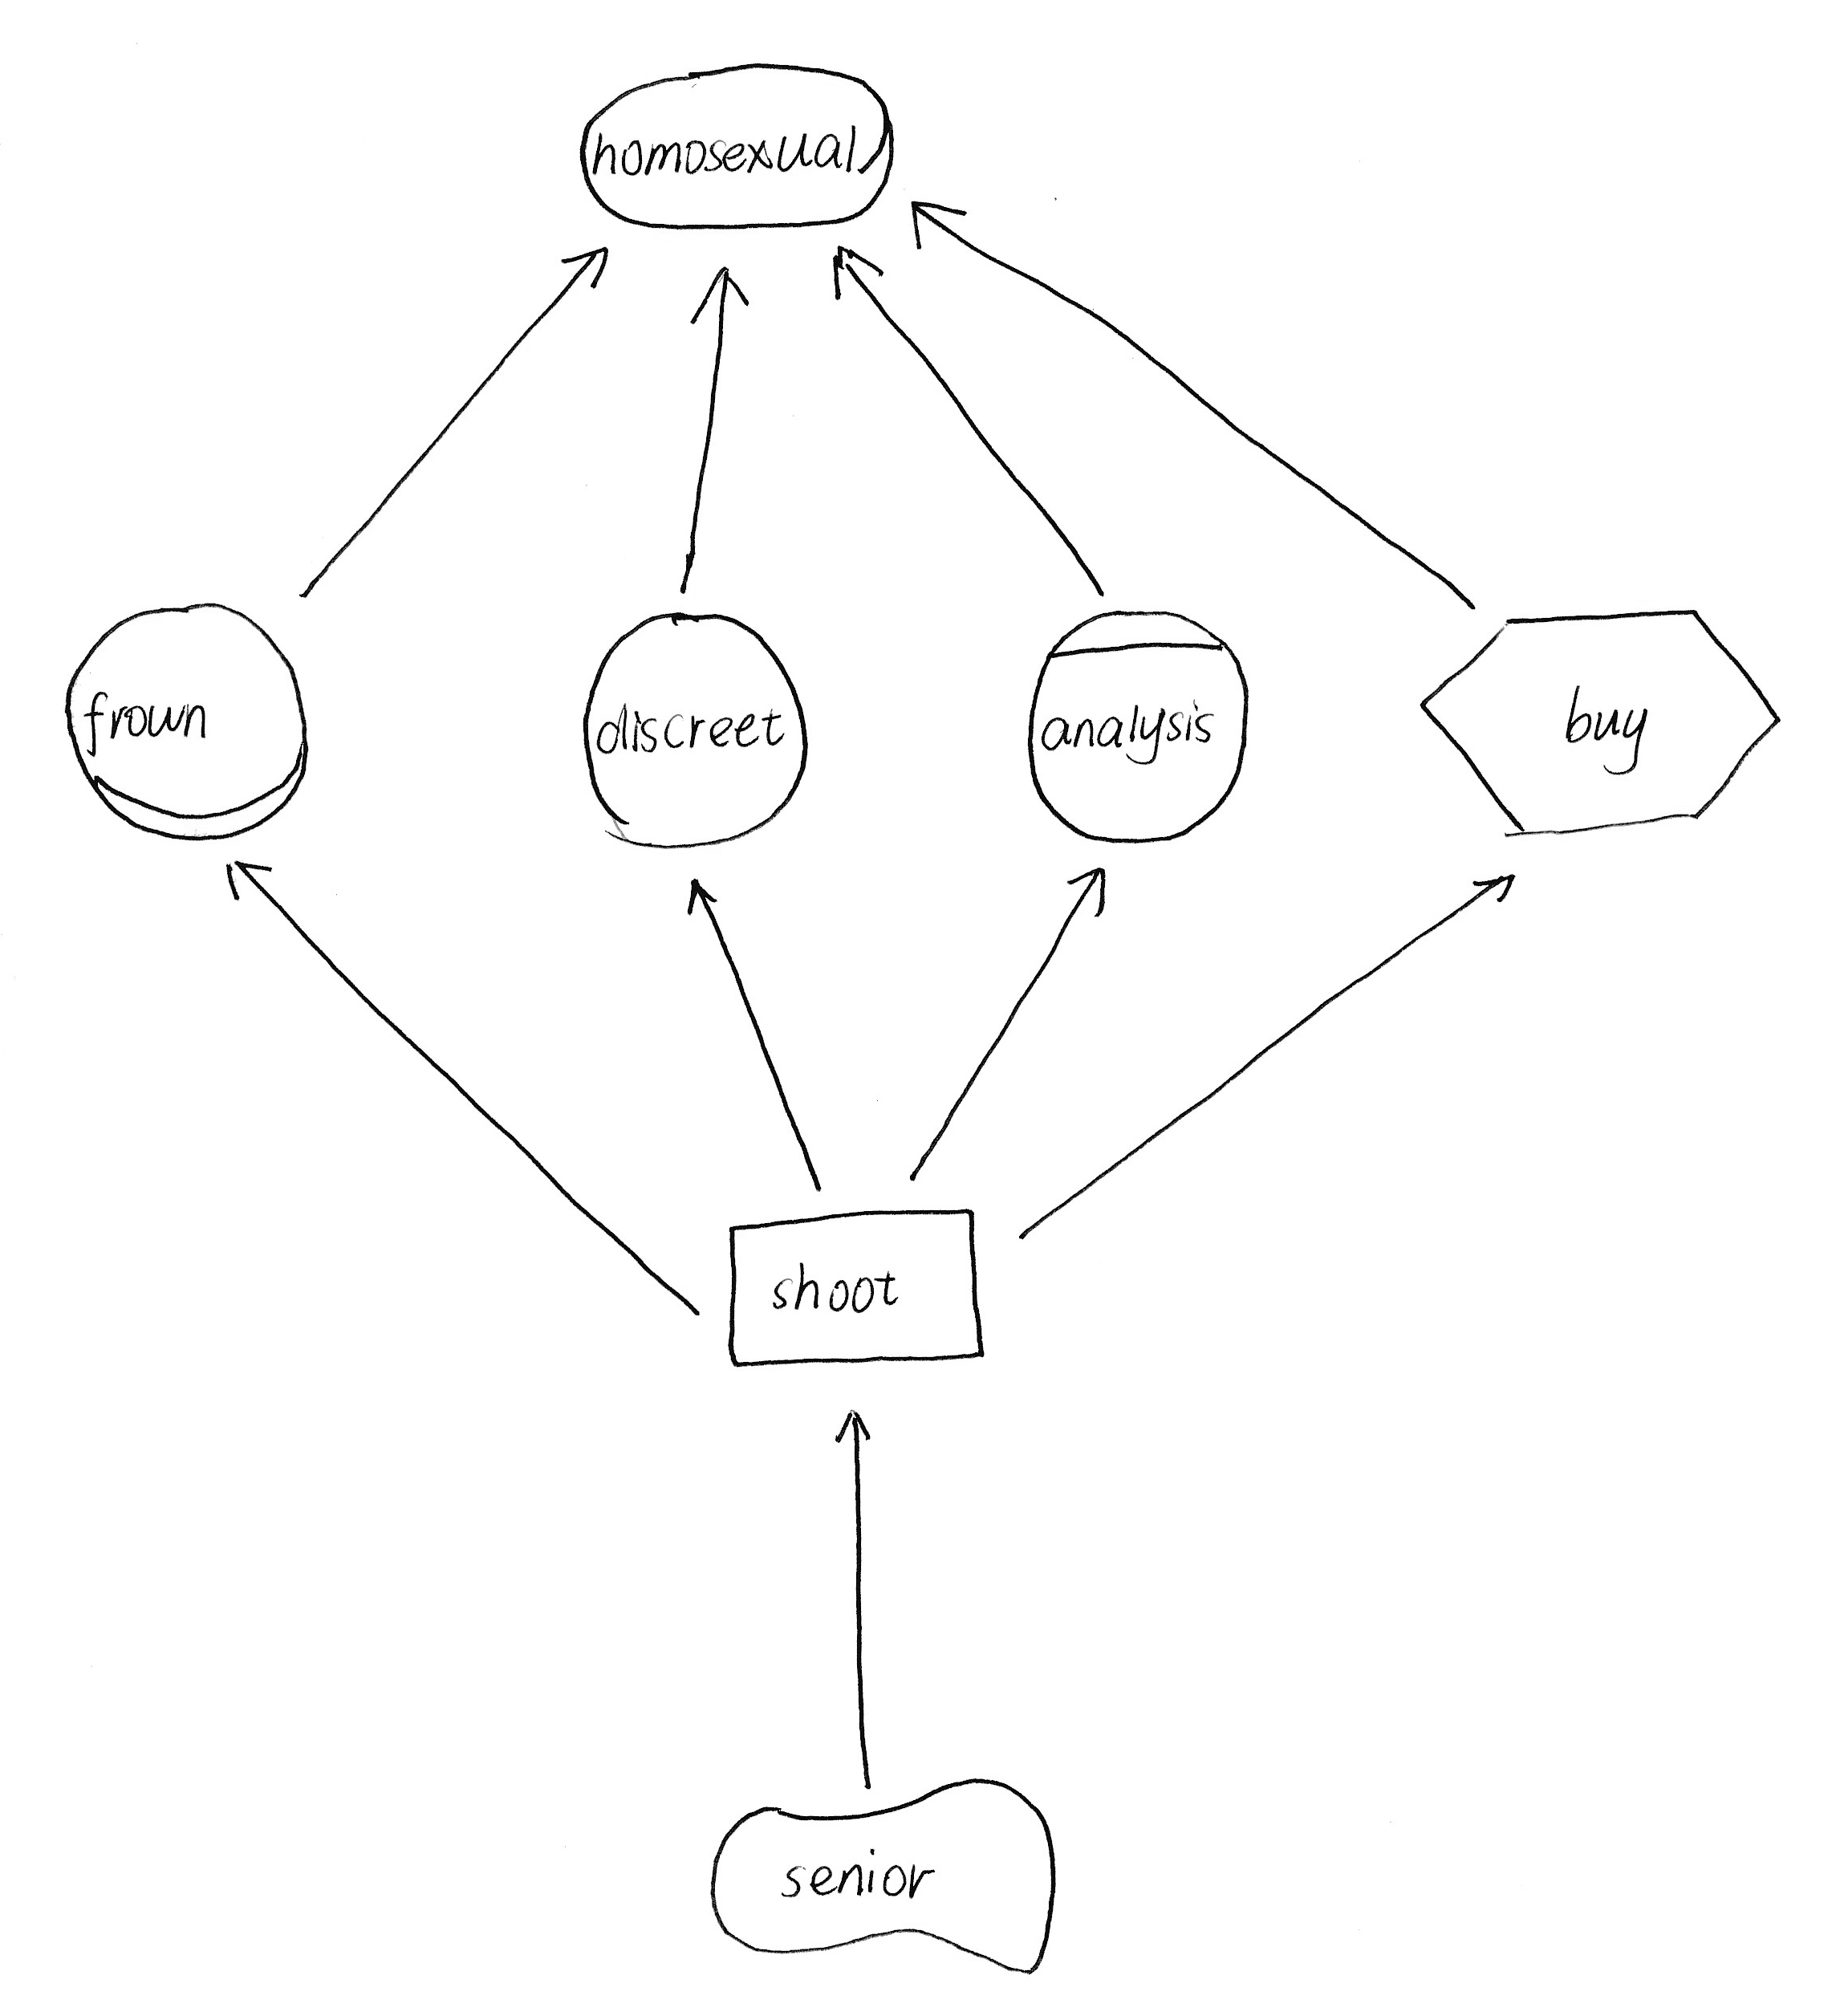actor: (562, 602, 823, 866)
agent: (1011, 594, 1262, 855)
arrow: (202, 845, 298, 911), (676, 253, 760, 328), (895, 190, 988, 251), (823, 239, 893, 307), (1053, 855, 1123, 924), (553, 234, 621, 299), (663, 862, 730, 927), (1459, 859, 1532, 917), (825, 1398, 881, 1458)
goal: (555, 51, 918, 248)
quality: (693, 1763, 1076, 1990)
resource: (709, 1189, 1008, 1387)
role: (56, 587, 328, 862)
task: (1406, 590, 1796, 850)
